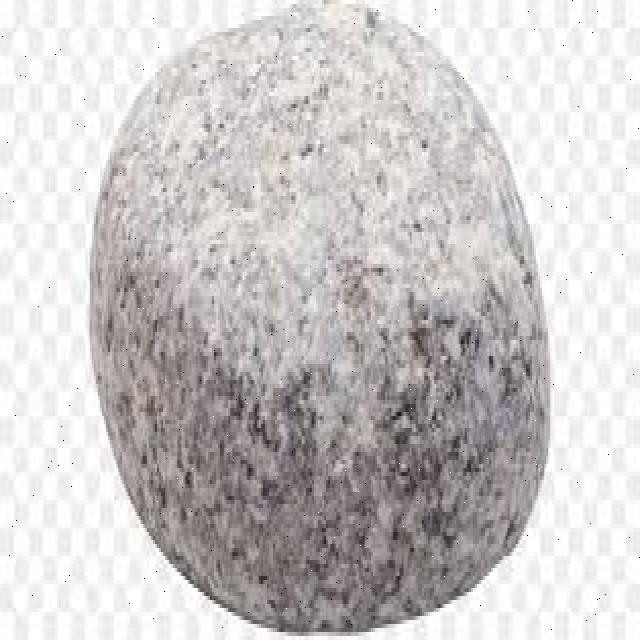Metamorphic: (67, 8, 569, 632)
